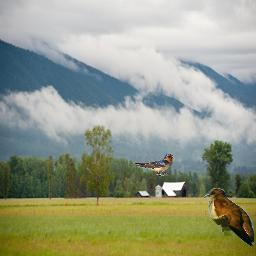Cuckoo: (204, 188, 254, 248)
Swallow: (135, 154, 174, 176)
